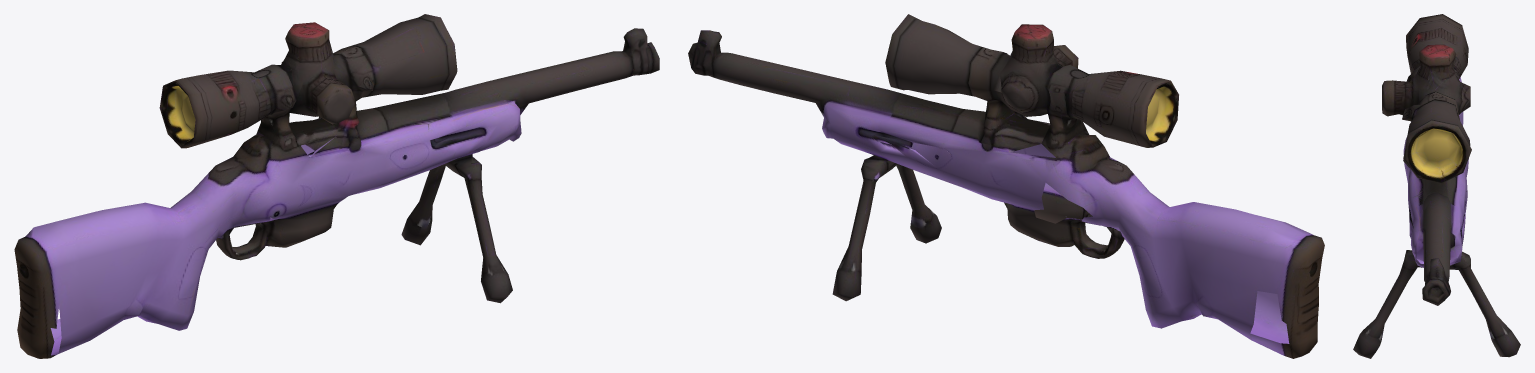
The model's file is awm.glb.
3 views of the same model, side by side, from view 1: azimuth 30°, elevation 25°; view 2: azimuth 150°, elevation 25°; view 3: azimuth 270°, elevation 25° (orthographic). The views are drawn at different scales.
Visible parts, largest first — view 1: tripo_node_9a4cf130-23cf-4015-a12f-e746abd5edcd; view 2: tripo_node_9a4cf130-23cf-4015-a12f-e746abd5edcd; view 3: tripo_node_9a4cf130-23cf-4015-a12f-e746abd5edcd.
Part boxes in pixels (x1,y1,x2,y2): tripo_node_9a4cf130-23cf-4015-a12f-e746abd5edcd: (14,14,659,358); tripo_node_9a4cf130-23cf-4015-a12f-e746abd5edcd: (688,14,1324,358); tripo_node_9a4cf130-23cf-4015-a12f-e746abd5edcd: (1353,14,1520,358).
Size of the model in its own units: 0.9528 by 0.4038 by 0.2516.
1 material, 1 textured.
